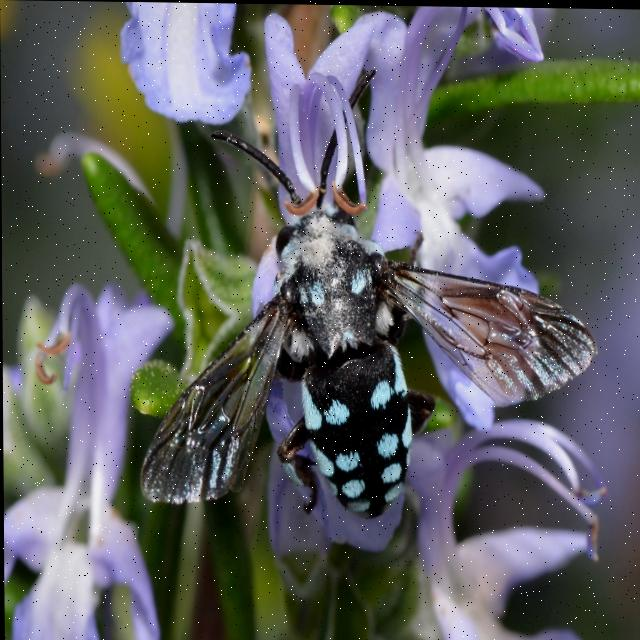Thyreus: (133, 57, 600, 527)
